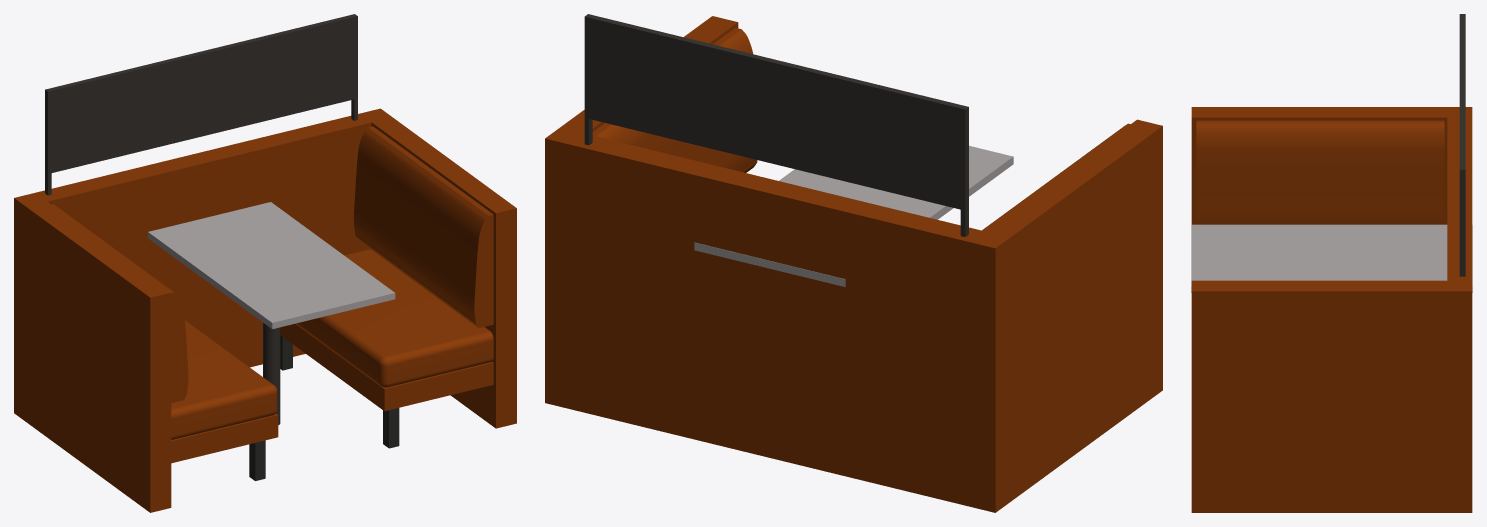
Rendered from u_booth__02e7f0d6ad8c.glb.
3 renders of one model, left to right at view 1: azimuth 30°, elevation 25°; view 2: azimuth 150°, elevation 25°; view 3: azimuth 270°, elevation 25°, orthographic. The views are drawn at different scales.
Visible parts, largest first — view 1: end_wall, screen, seat_pad, back_pad, tabletop, seat_pad.001, back_pad.001, pedestal, leg.001, leg.003; view 2: end_wall, screen, tabletop, back_pad; view 3: end_wall, back_pad.001, tabletop, screen.
Boxes of the visible parts, x1,y1,x2,y2 form: end_wall: (14, 108, 516, 512); screen: (45, 14, 357, 173); seat_pad: (280, 249, 493, 411); back_pad: (353, 126, 493, 327); tabletop: (148, 202, 395, 329); seat_pad.001: (171, 320, 278, 463); back_pad.001: (52, 204, 188, 403); pedestal: (263, 323, 280, 424); leg.001: (383, 408, 399, 448); leg.003: (249, 440, 265, 480); end_wall: (545, 16, 1162, 512); screen: (584, 14, 968, 210); tabletop: (694, 145, 1013, 286); back_pad: (592, 28, 757, 172); end_wall: (1191, 107, 1472, 512); back_pad.001: (1196, 120, 1444, 224); tabletop: (1191, 224, 1472, 292); screen: (1459, 14, 1465, 254).
Size of the model in its own units: 1.99 by 1.66 by 1.29.
